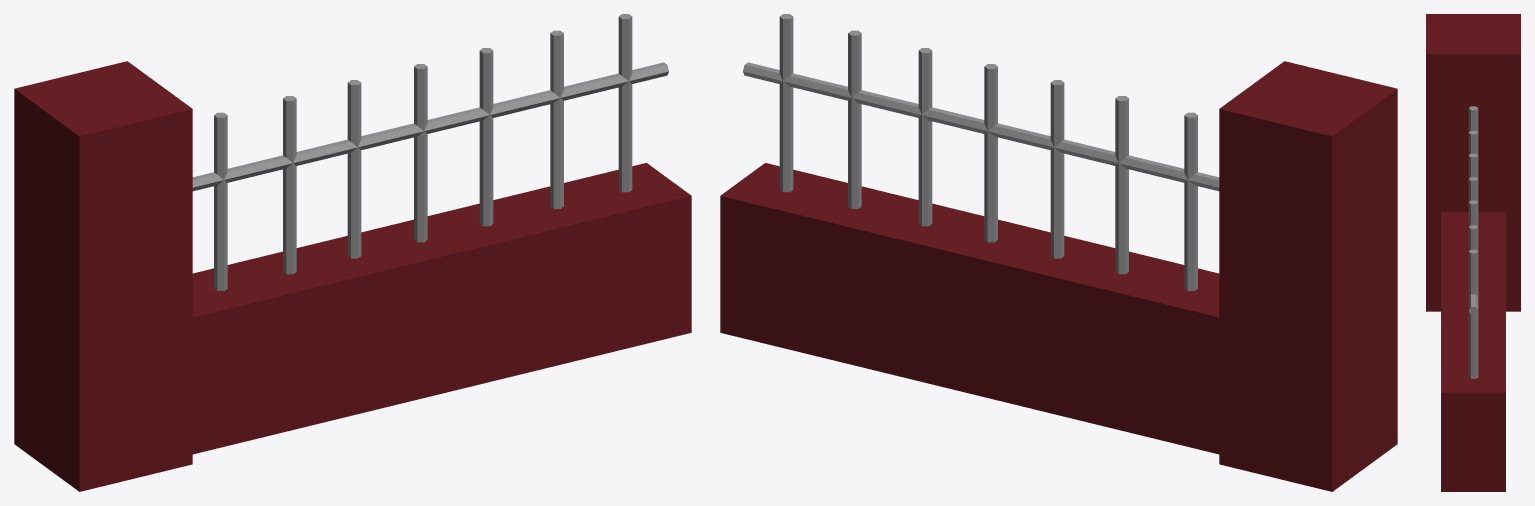
File: BrickFenceScaled.fbx
3 views of the same model, side by side, from view 1: azimuth 30°, elevation 25°; view 2: azimuth 150°, elevation 25°; view 3: azimuth 270°, elevation 25° (orthographic). The views are drawn at different scales.
Parts seen in each view (by area): view 1: Cube.001, Cylinder.007; view 2: Cube.001, Cylinder.007; view 3: Cube.001, Cylinder.007.
Boxes of the visible parts, box(x1,y1,x2,y2) form: Cube.001: box(14, 61, 691, 491); Cylinder.007: box(192, 14, 668, 290); Cube.001: box(720, 61, 1397, 491); Cylinder.007: box(743, 14, 1219, 290); Cube.001: box(1426, 14, 1520, 491); Cylinder.007: box(1468, 106, 1478, 378).
Bounding box in the file's own units: 490 × 268 × 89.1.
